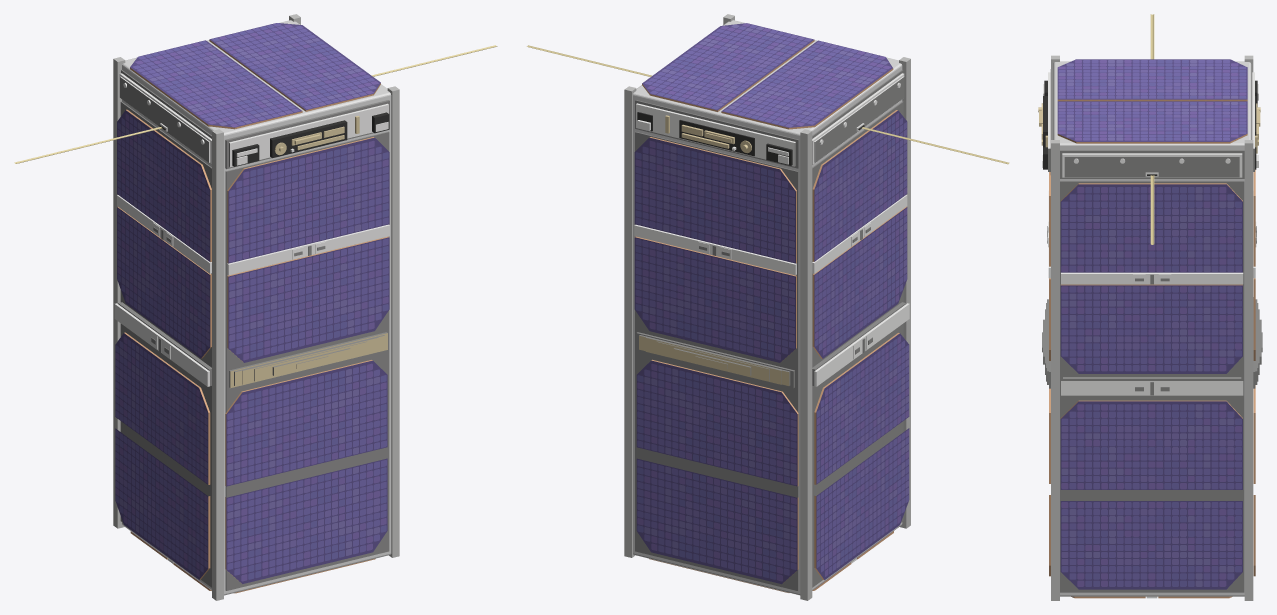
The model's file is CubeSat - 2 RU Generic.glb.
3 views of the same model, side by side, from view 1: azimuth 30°, elevation 25°; view 2: azimuth 150°, elevation 25°; view 3: azimuth 270°, elevation 25° (orthographic). The views are drawn at different scales.
Visible parts, largest first — view 1: Layer_0; view 2: Layer_0; view 3: Layer_0.
Boxes of the visible parts, box(x1,y1,x2,y2) form: Layer_0: box(14, 14, 497, 600); Layer_0: box(527, 14, 1009, 600); Layer_0: box(1038, 14, 1262, 600).
Size of the model in its own units: 5.39 by 5 by 2.21.
